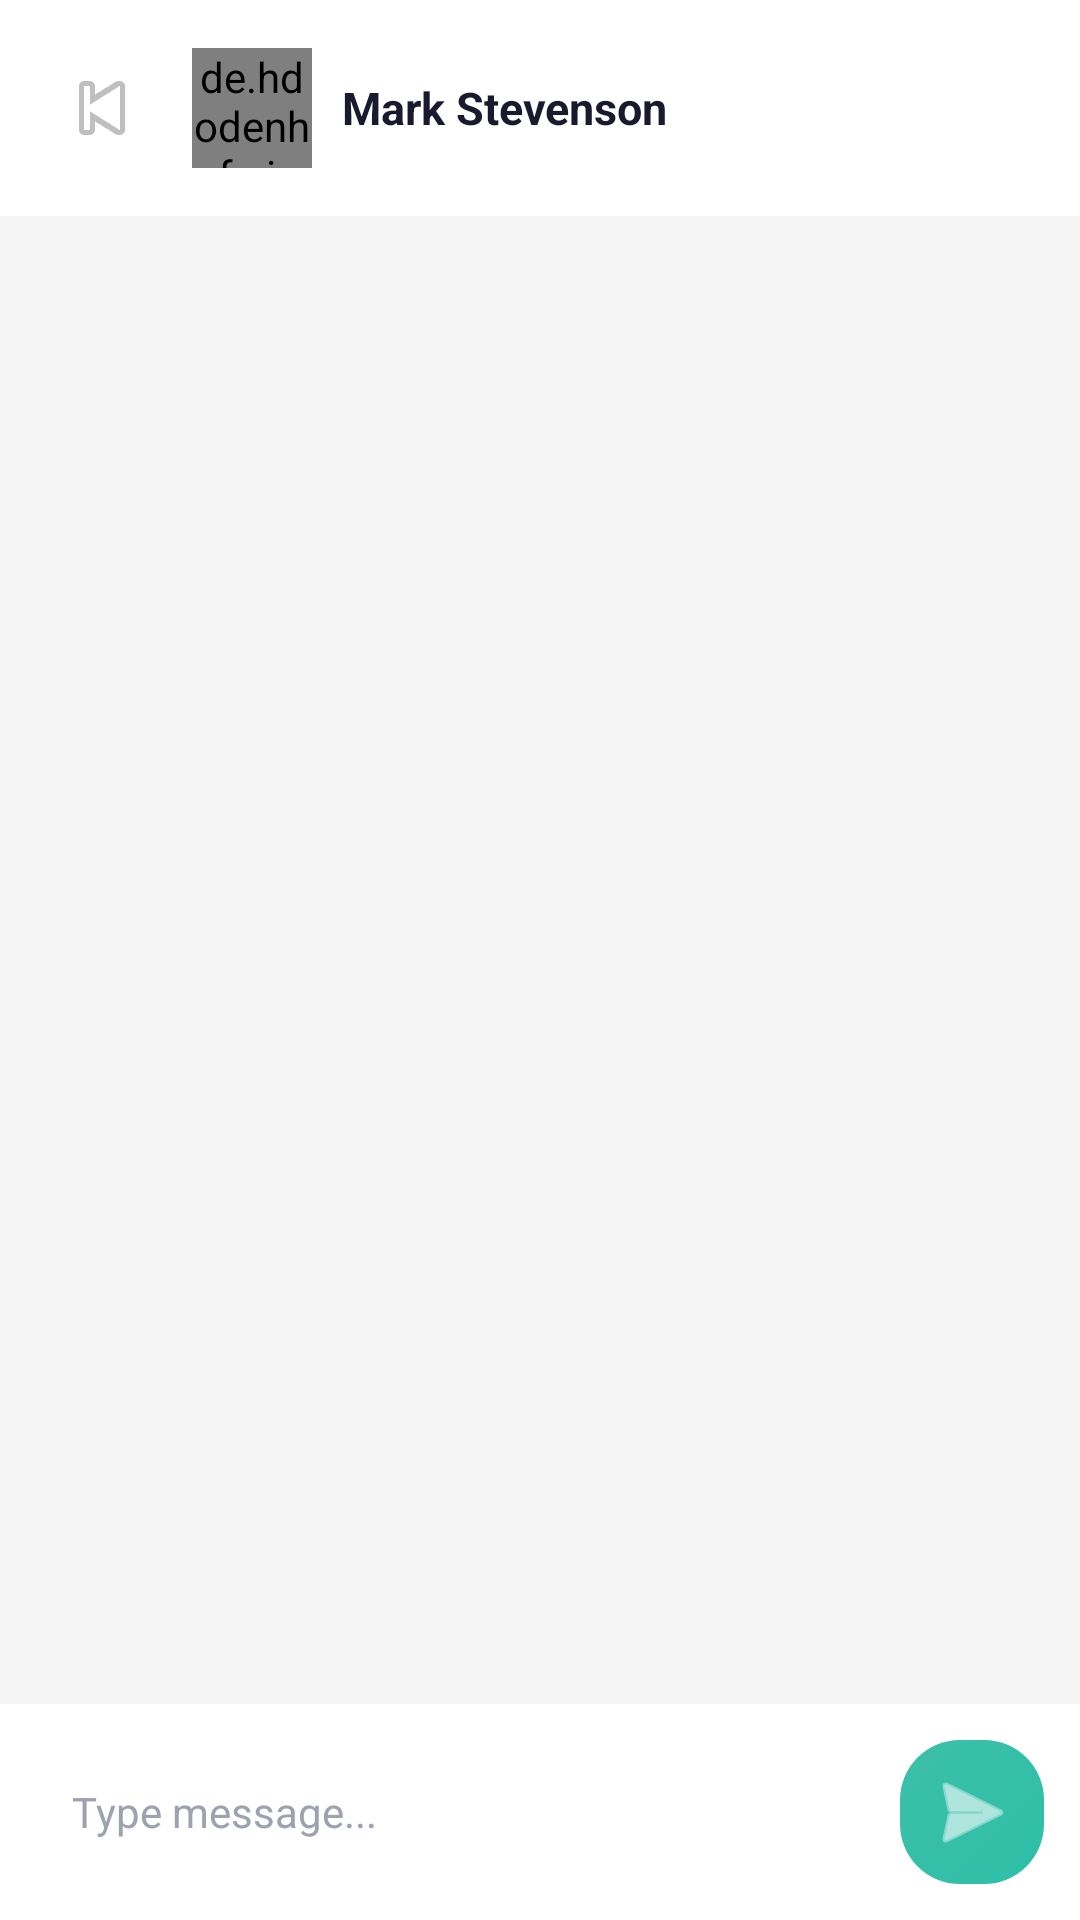

Named icons in this screenshot (1080px×1920px) and their bounding boxes, bbox=[x1, y1, x2, y2]:
Back: bbox=[79, 81, 125, 135]
Send: bbox=[900, 1740, 1044, 1884]
